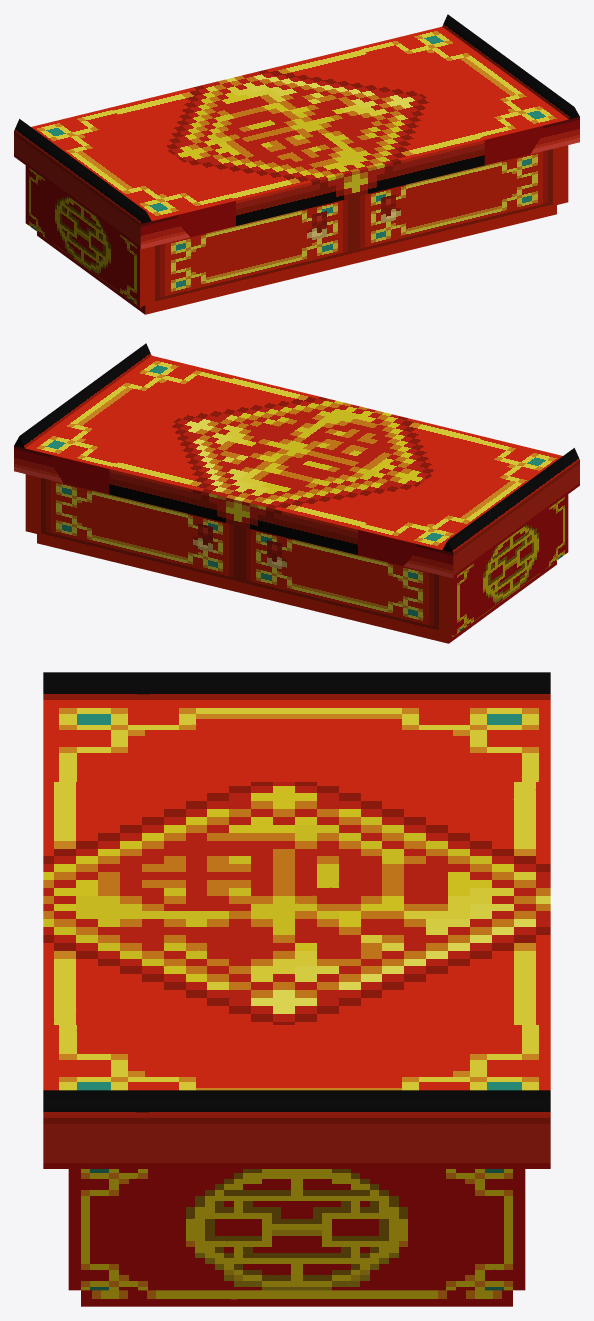
3 views of the same model, one above another, from view 1: azimuth 30°, elevation 25°; view 2: azimuth 150°, elevation 25°; view 3: azimuth 270°, elevation 25° (orthographic). The views are drawn at different scales.
Parts seen in each view (by area): view 1: 3642kg_case_09; view 2: 3642kg_case_09; view 3: 3642kg_case_09.
Boxes of the visible parts, x1,y1,x2,y2 form: 3642kg_case_09: [14, 14, 579, 314]; 3642kg_case_09: [14, 343, 579, 643]; 3642kg_case_09: [43, 672, 550, 1306].
Size of the model in its own units: 2 by 0.4883 by 1.
Materials: 3 (3 with a texture image).
